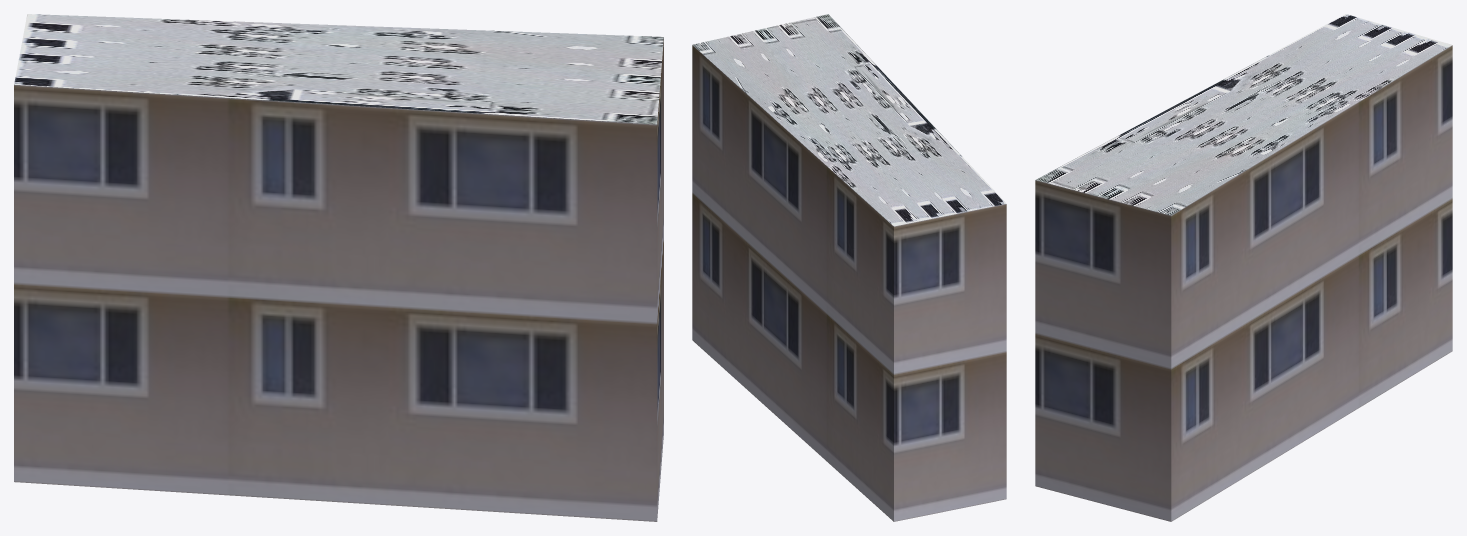
Rendered from ResTex__2024.fbx.
The picture shows the model from 3 angles, left to right: view 1: azimuth 30°, elevation 25°; view 2: azimuth 150°, elevation 25°; view 3: azimuth 270°, elevation 25°; orthographic projection. The views are drawn at different scales.
Visible parts, largest first — view 1: CityEngineMaterial_21_m, CityEngineMaterial_8_m; view 2: CityEngineMaterial_21_m, CityEngineMaterial_8_m; view 3: CityEngineMaterial_21_m, CityEngineMaterial_8_m.
Boxes of the visible parts, bbox=[...] form: CityEngineMaterial_21_m: bbox=[14, 38, 663, 521]; CityEngineMaterial_8_m: bbox=[14, 14, 663, 124]; CityEngineMaterial_21_m: bbox=[692, 45, 1006, 521]; CityEngineMaterial_8_m: bbox=[692, 14, 1006, 226]; CityEngineMaterial_21_m: bbox=[1035, 45, 1452, 521]; CityEngineMaterial_8_m: bbox=[1036, 14, 1452, 215].
Bounding box in the file's own units: 8.48 × 6 × 7.41.
Materials: 2 (2 with a texture image).
